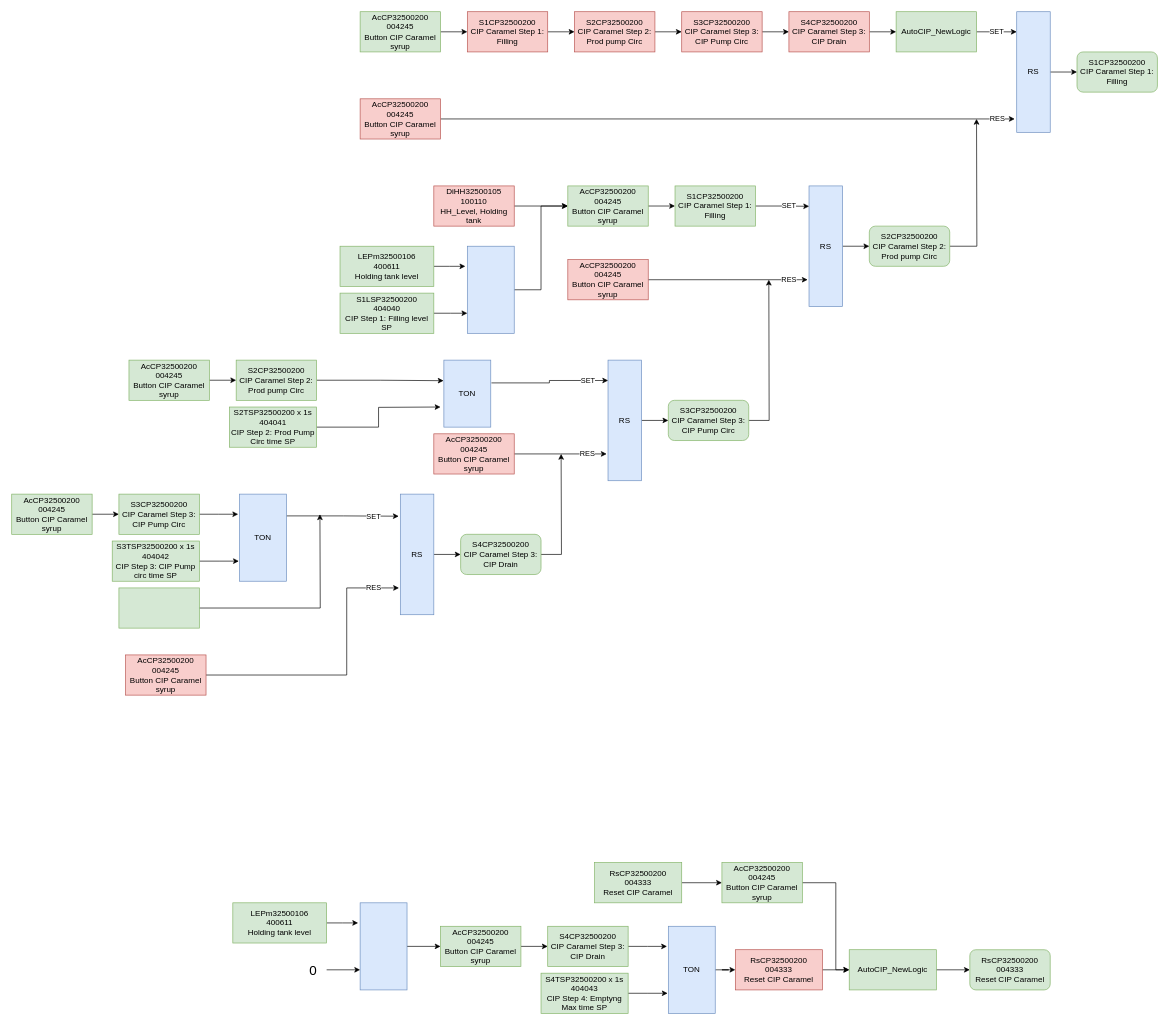
Image size: 1169x1025. Some labels were removed from this diagram. Here are the shapes that lost their labels. From the top down, the centre of each, then its label:
At (490,289): "GT".
At (158,607): "CIP51StopActive 004223 CIP 51 Stop is active".
At (383,946): "LE".
